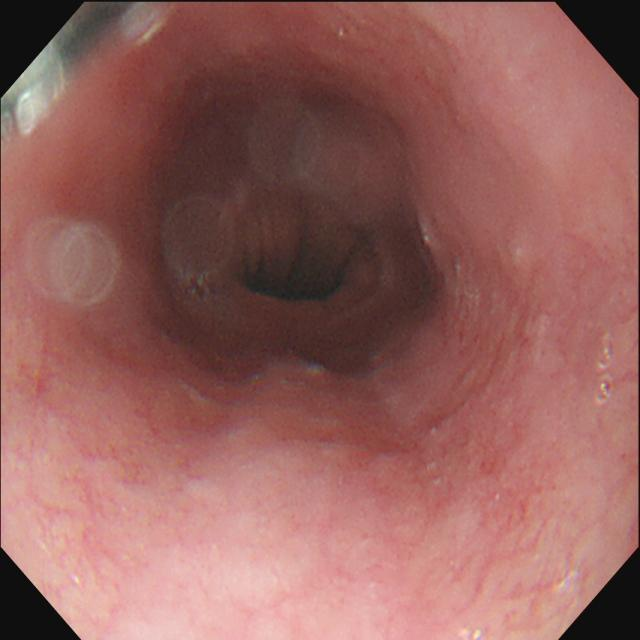E: (236, 220, 353, 305)
T: (595, 332, 617, 406)
U: (9, 5, 177, 139), (26, 220, 123, 313)
